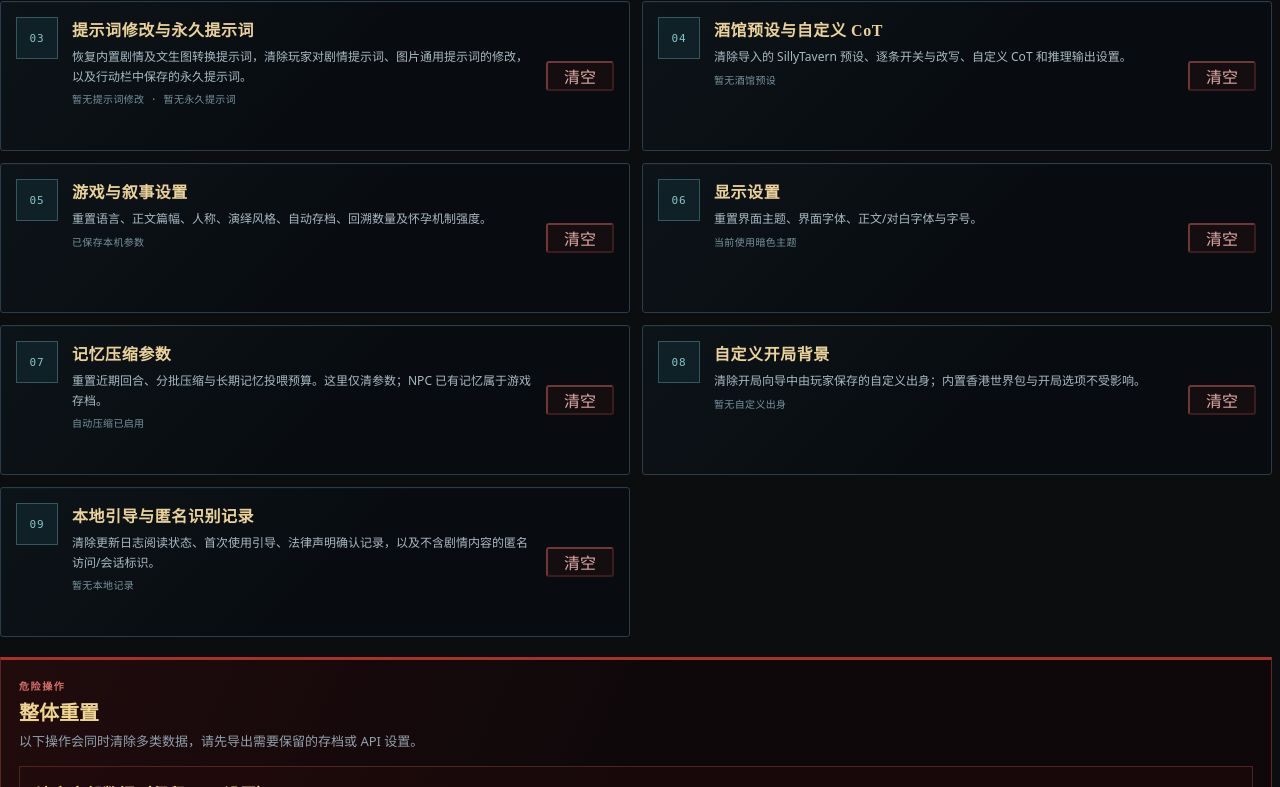
DataManagementPanel › cancels safely at the second confirmation
The width and height of the screenshot is (1280, 787).
(page scrolled)
Click the button "清空" next to "清除开局向导中由玩家保存的自定义出身；内置香港世界包与开局选项不受影响。" at (1222, 400), box [1188,385,1256,415]
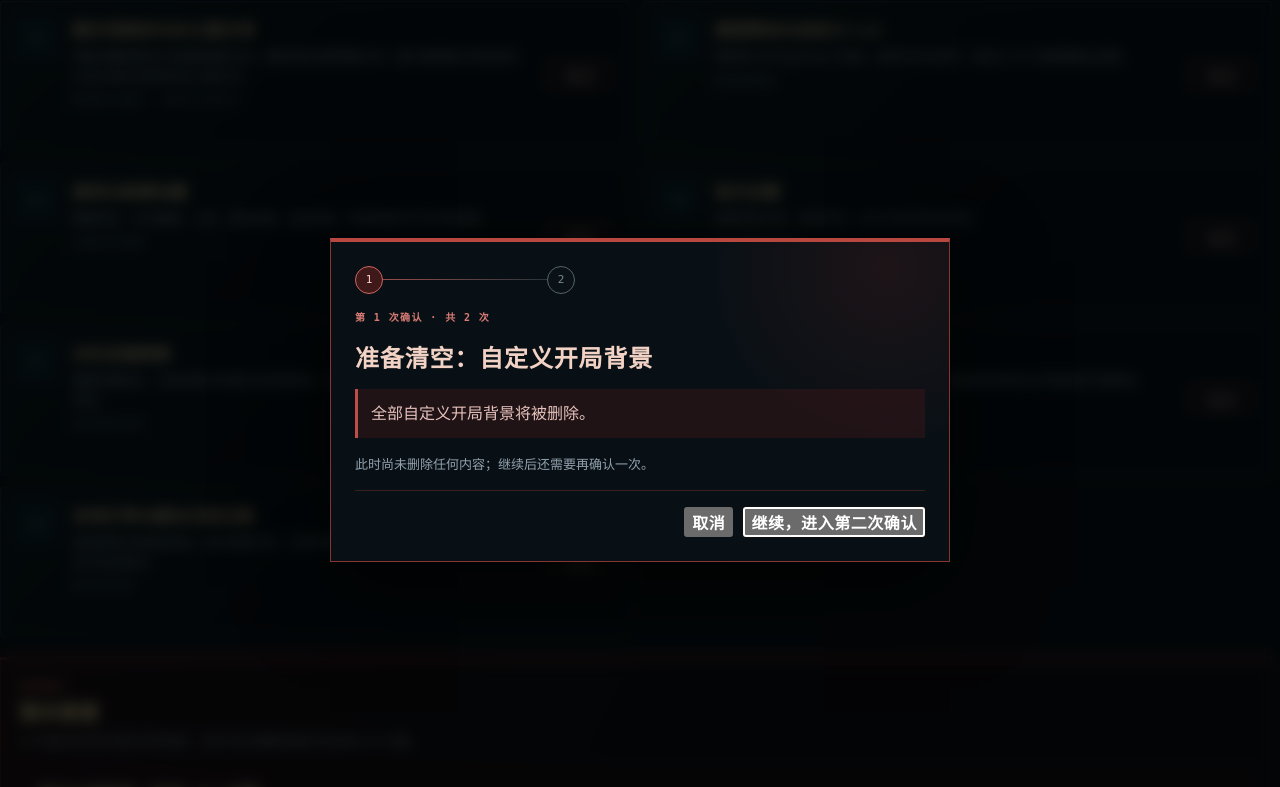
Click the button "继续，进入第二次确认" at (834, 522), box [743,507,925,537]
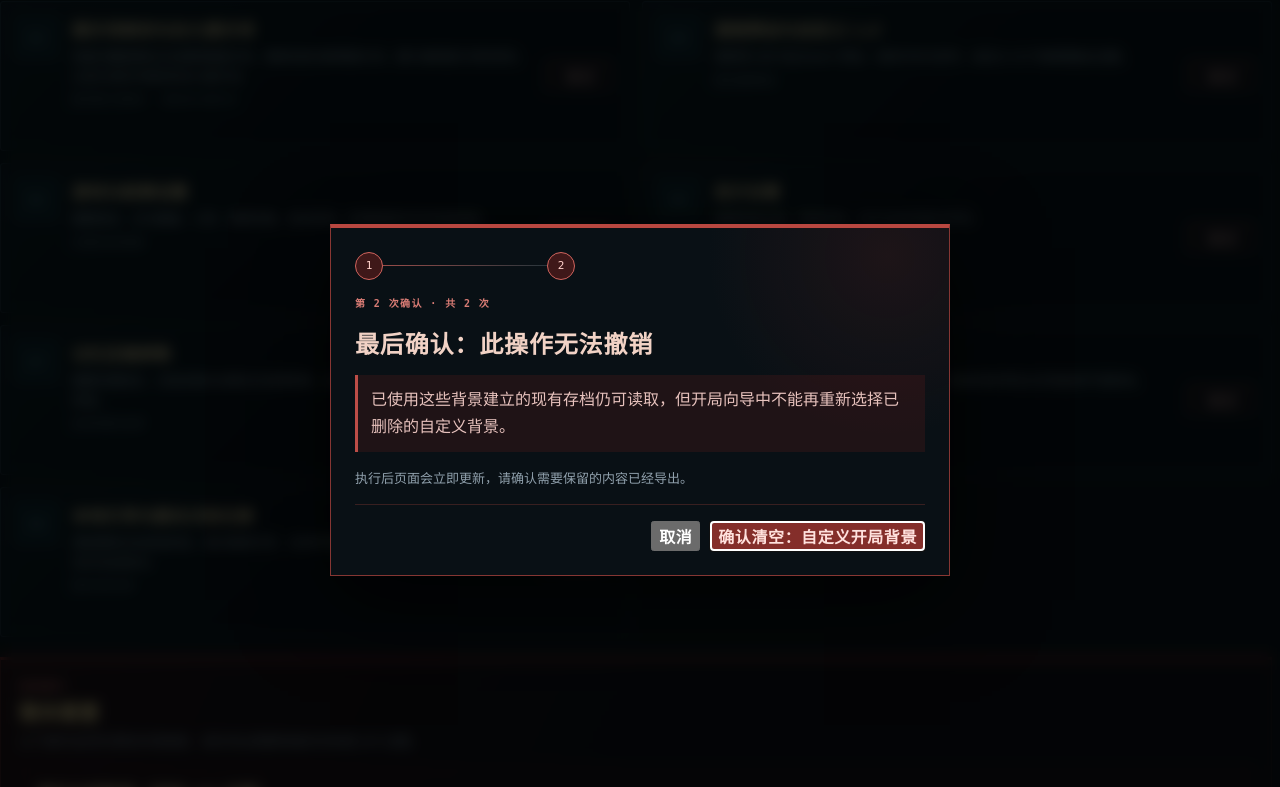
Click the button "取消" at (676, 536), box [651,521,700,551]
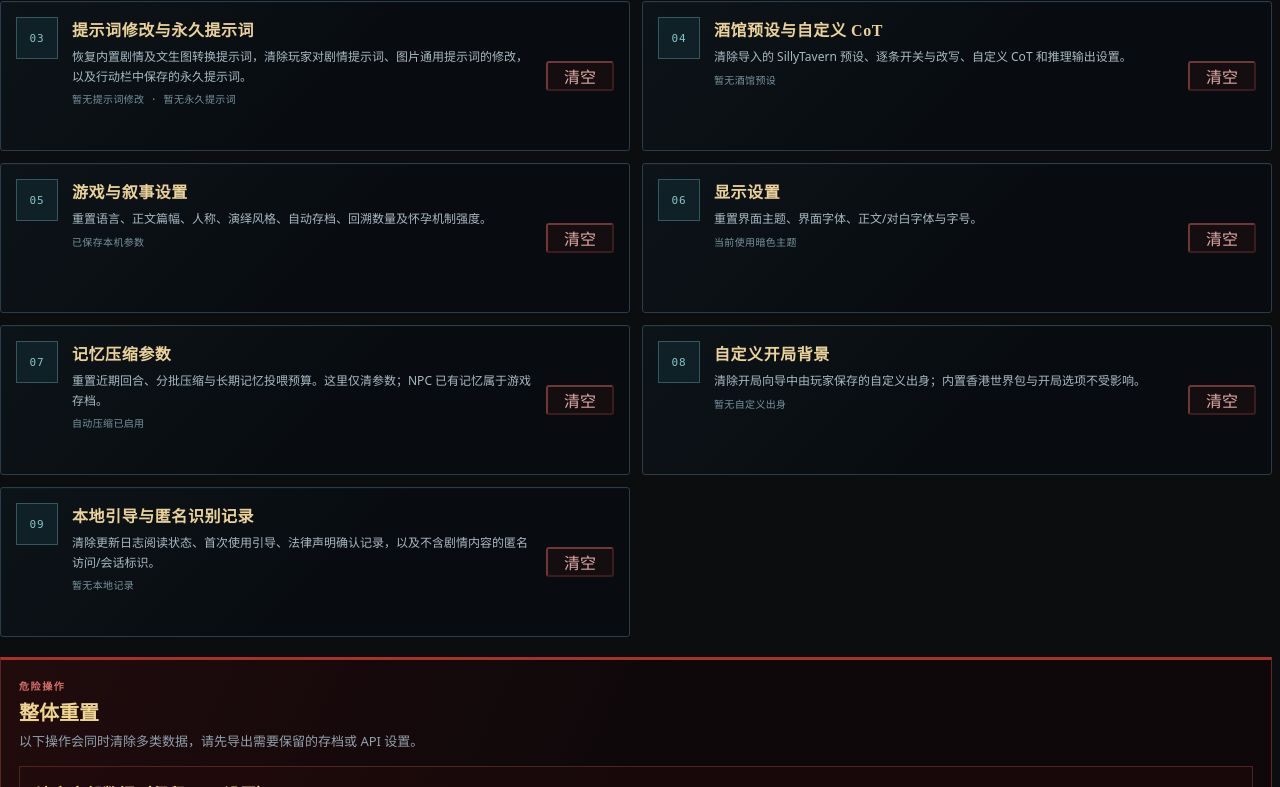
expect the dialog is gone: met
